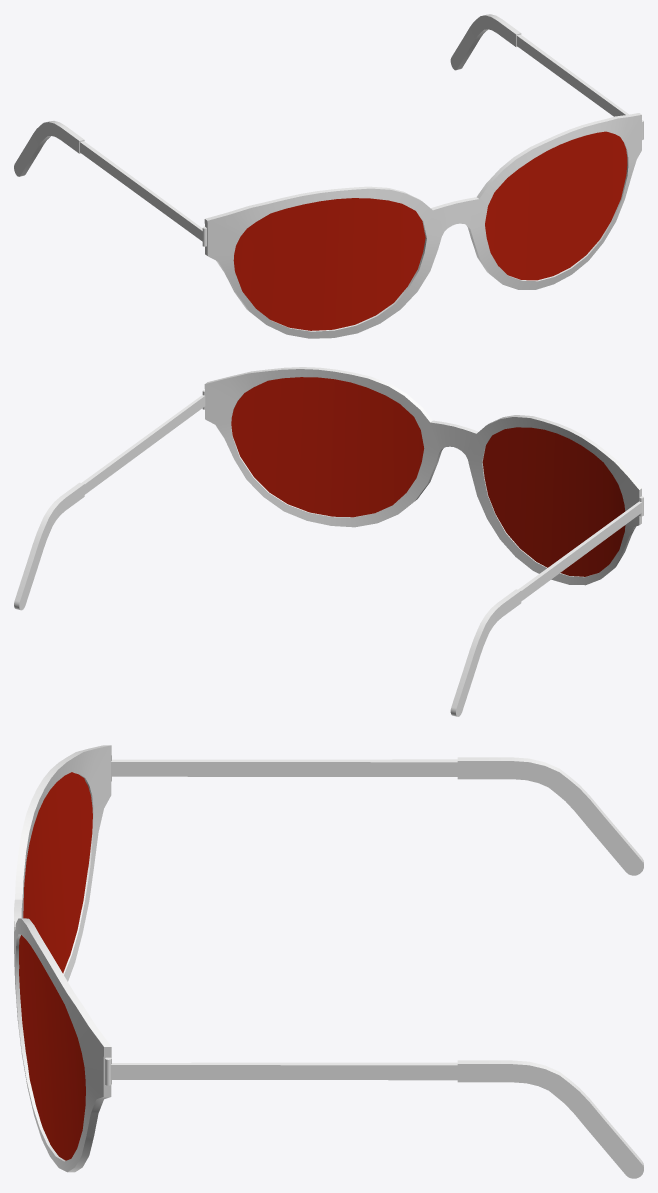
File: glasses15.001.obj
The picture shows the model from 3 angles, top to bottom: view 1: azimuth 30°, elevation 25°; view 2: azimuth 150°, elevation 25°; view 3: azimuth 270°, elevation 25°; orthographic projection. The views are drawn at different scales.
Visible parts, largest first — view 1: glasses15.001_glasses15.001_Material.025, glasses15.001_glasses15.001_Material.026; view 2: glasses15.001_glasses15.001_Material.025, glasses15.001_glasses15.001_Material.026; view 3: glasses15.001_glasses15.001_Material.026, glasses15.001_glasses15.001_Material.025.
Boxes of the visible parts, bbox=[...] form: glasses15.001_glasses15.001_Material.025: bbox=[233, 131, 627, 330]; glasses15.001_glasses15.001_Material.026: bbox=[14, 14, 643, 338]; glasses15.001_glasses15.001_Material.025: bbox=[231, 377, 625, 576]; glasses15.001_glasses15.001_Material.026: bbox=[14, 367, 643, 716]; glasses15.001_glasses15.001_Material.026: bbox=[14, 745, 643, 1178]; glasses15.001_glasses15.001_Material.025: bbox=[19, 772, 92, 1160].
Size of the model in its own units: 2.18 by 0.7101 by 1.89.
